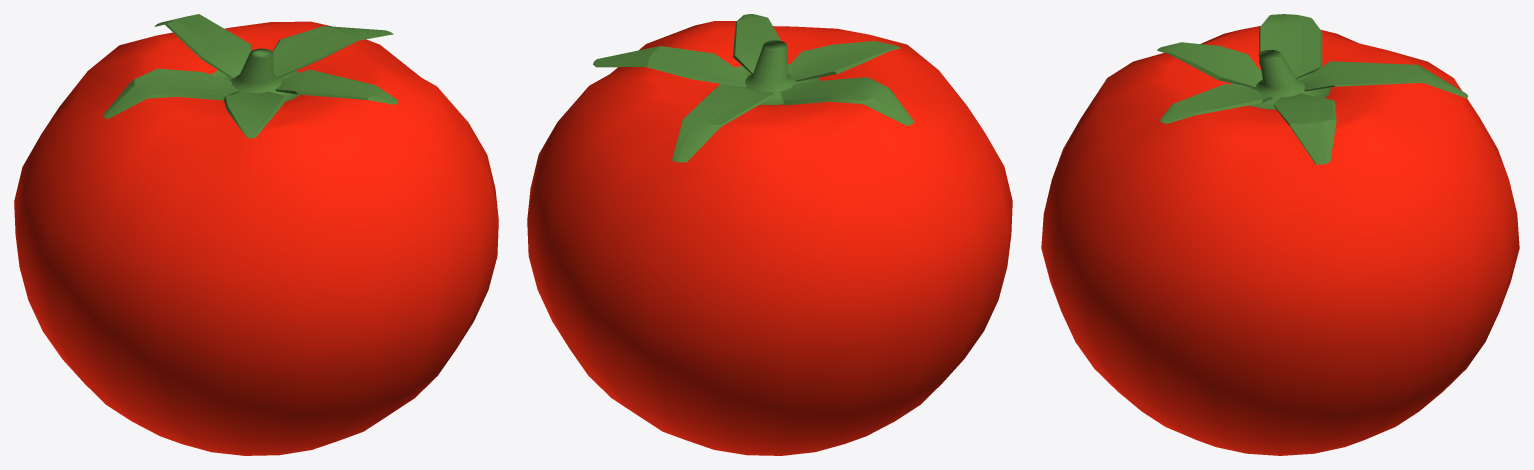
Rendered from Tomato.fbx.
3 views of the same model, side by side, from view 1: azimuth 30°, elevation 25°; view 2: azimuth 150°, elevation 25°; view 3: azimuth 270°, elevation 25° (orthographic).
Parts seen in each view (by area): view 1: pSphere1; view 2: pSphere1; view 3: pSphere1.
Boxes of the visible parts, x1,y1,x2,y2 form: pSphere1: (14, 14, 498, 455); pSphere1: (527, 14, 1012, 455); pSphere1: (1041, 14, 1519, 455).
Bounding box in the file's own units: 6.82 × 5.88 × 6.73.
